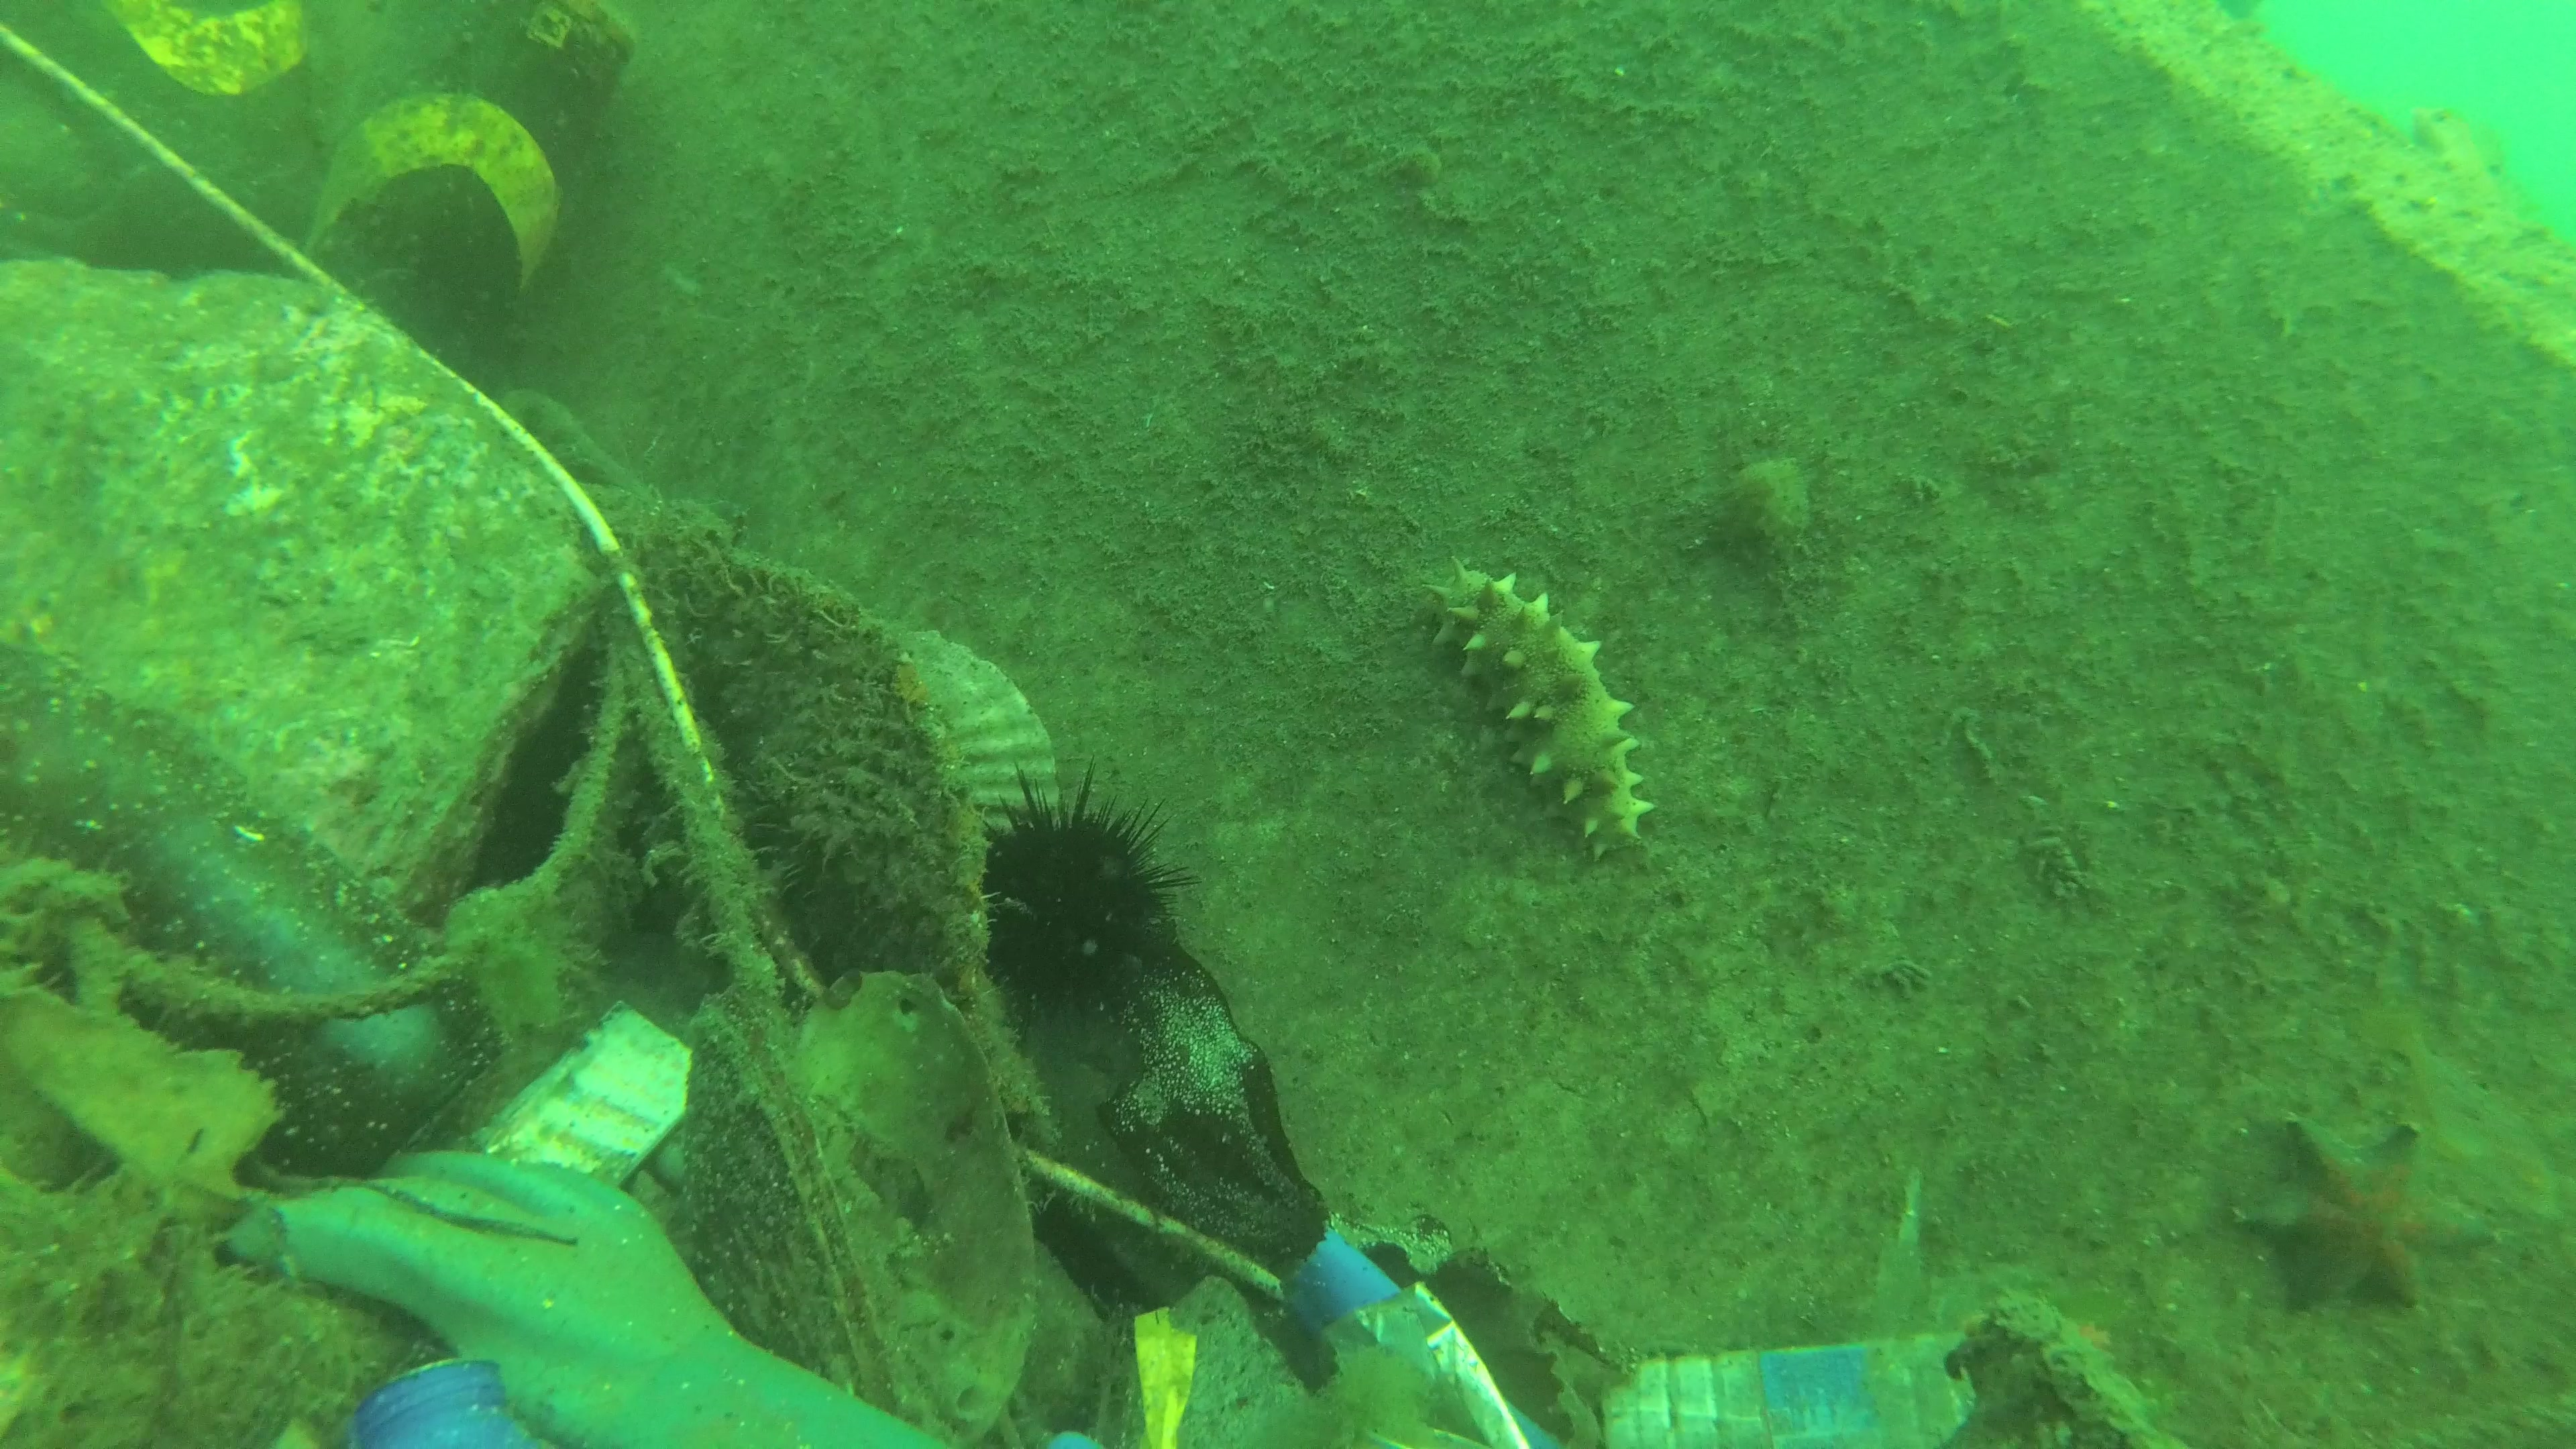echinus: (941, 773, 1194, 1016)
holothurian: (1422, 550, 1658, 869)
starfish: (2226, 1097, 2493, 1315)
